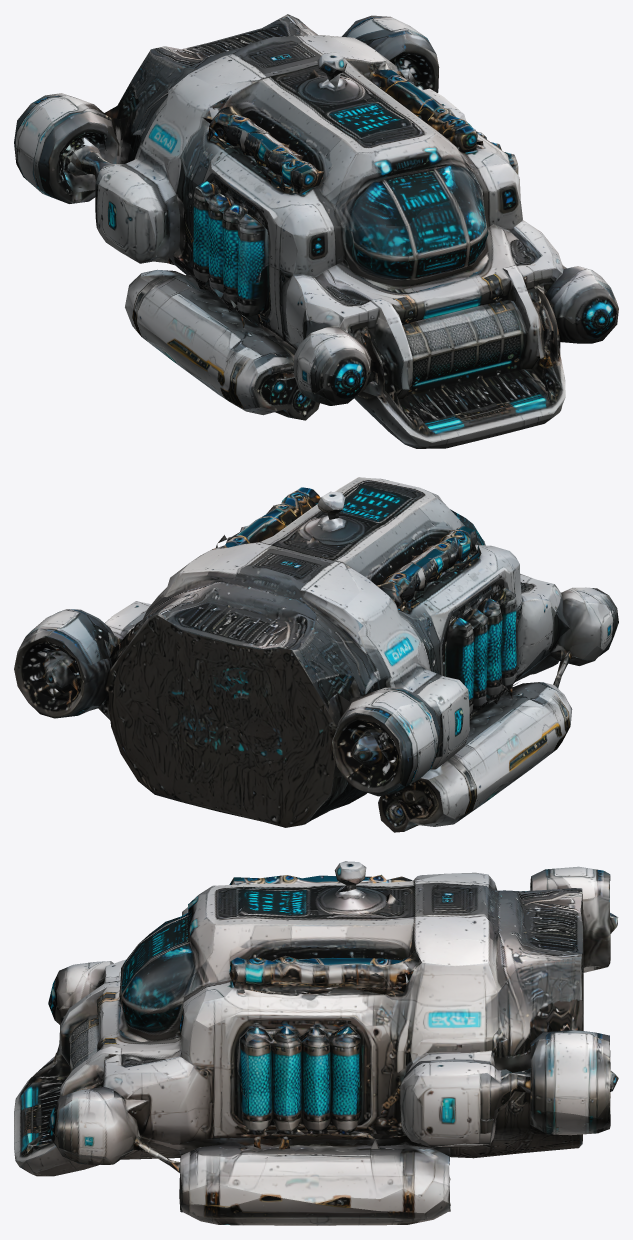
File: hanriver_purifier_buoy_stage01.glb
3 renders of one model, top to bottom at view 1: azimuth 30°, elevation 25°; view 2: azimuth 150°, elevation 25°; view 3: azimuth 270°, elevation 25°, orthographic. The views are drawn at different scales.
Parts seen in each view (by area): view 1: world; view 2: world; view 3: world.
Part boxes in pixels (<box>): world: <box>14,14,618,448</box>; world: <box>14,477,618,832</box>; world: <box>14,861,618,1225</box>.
Bounding box in the file's own units: 0.7987 × 0.5358 × 0.9982.
Materials: 1 (1 with a texture image).
